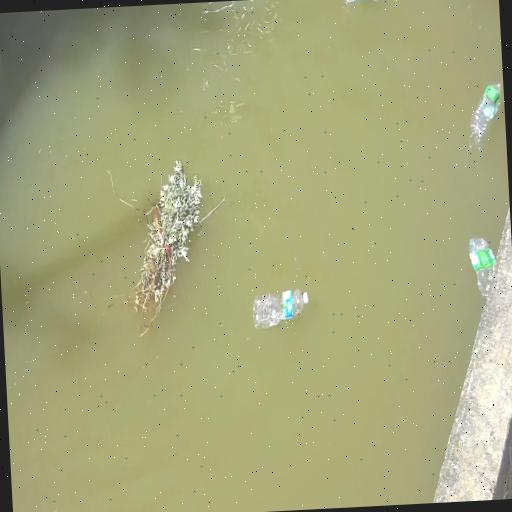plastic: (469, 84, 501, 150), (254, 290, 307, 328), (470, 238, 496, 297)
twig: (133, 160, 202, 330)
